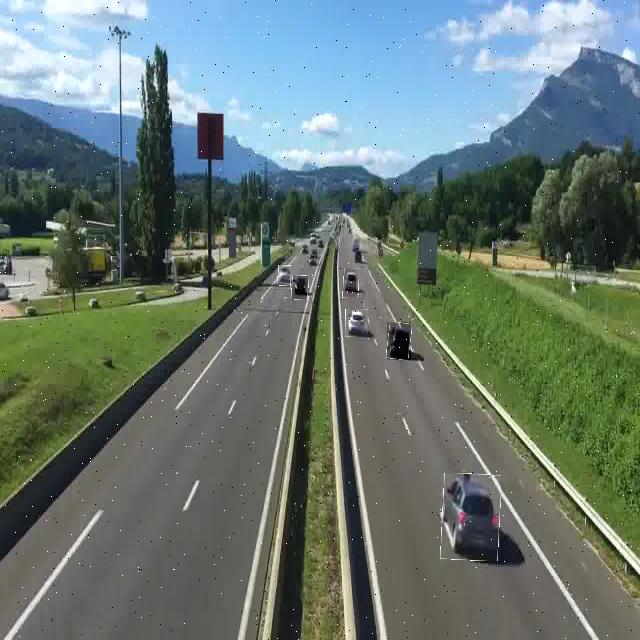Car: (441, 474, 500, 561), (387, 322, 411, 360), (345, 309, 368, 337), (343, 268, 358, 298), (292, 276, 308, 300), (278, 266, 291, 286)
